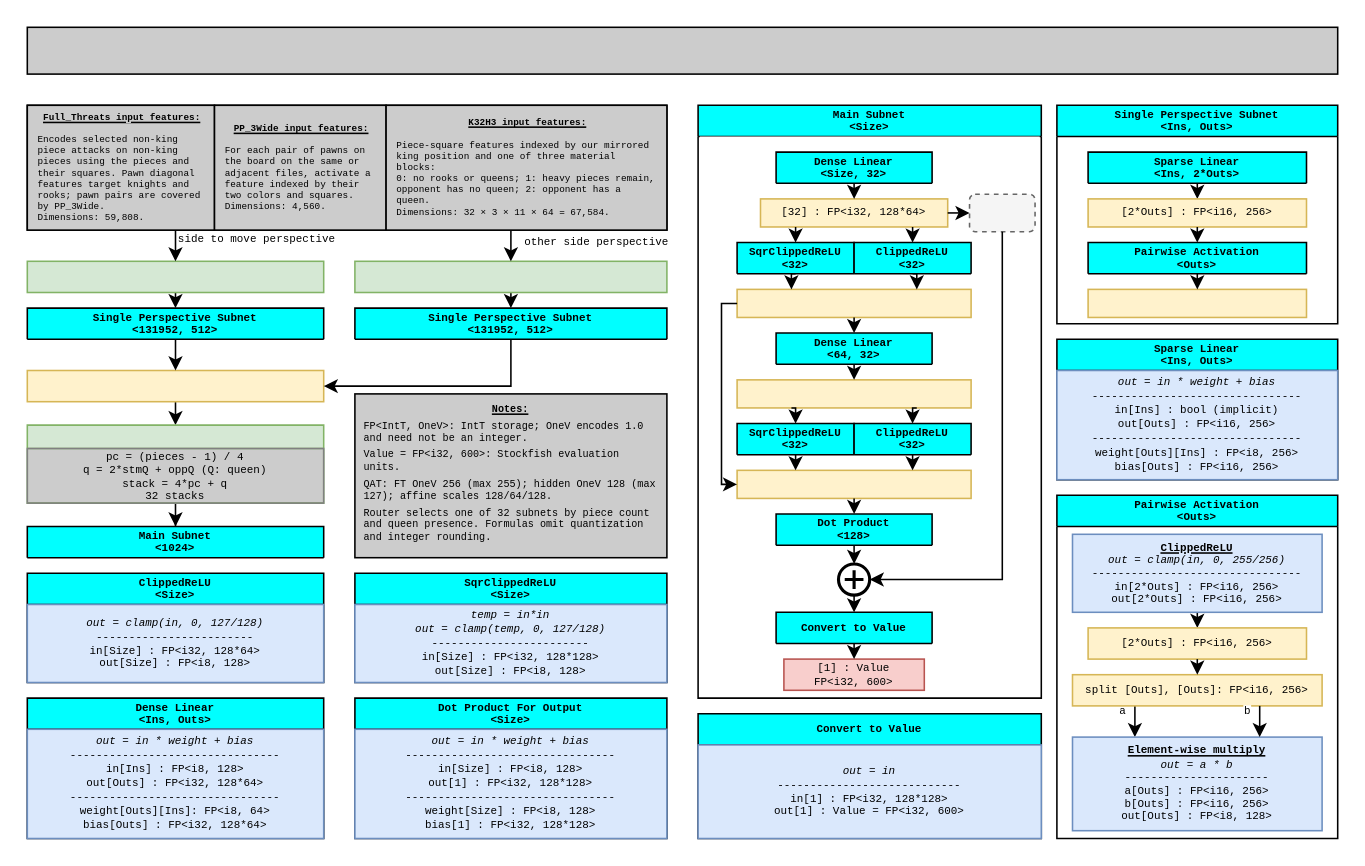
Some shapes in this 1365 by 866 pixel diagram are drawn without their labels. Here are the shapes that lost their labels. From the top down, the box of each, then its label:
(26, 26, 1338, 74): Stockfish SFNNv19 evaluation network diagram
(968, 193, 1035, 232): skip x30 - x31
(26, 260, 324, 292): Input feature set [131952] : bool (implicit)
(353, 260, 667, 292): Input feature set [ 131952 ] : bool (implicit)
(736, 288, 971, 317): concat [64] : FP<i8, 128>
(1087, 288, 1306, 317): [Outs] : FP<i8, 128>
(26, 369, 324, 402): concat [1024] : FP<i8, 128>
(736, 378, 971, 408): [32] : FP<i32, 128*64>
(26, 424, 324, 503): Subnet Router
(736, 469, 971, 498): concat [128] : FP<i8, 128>
